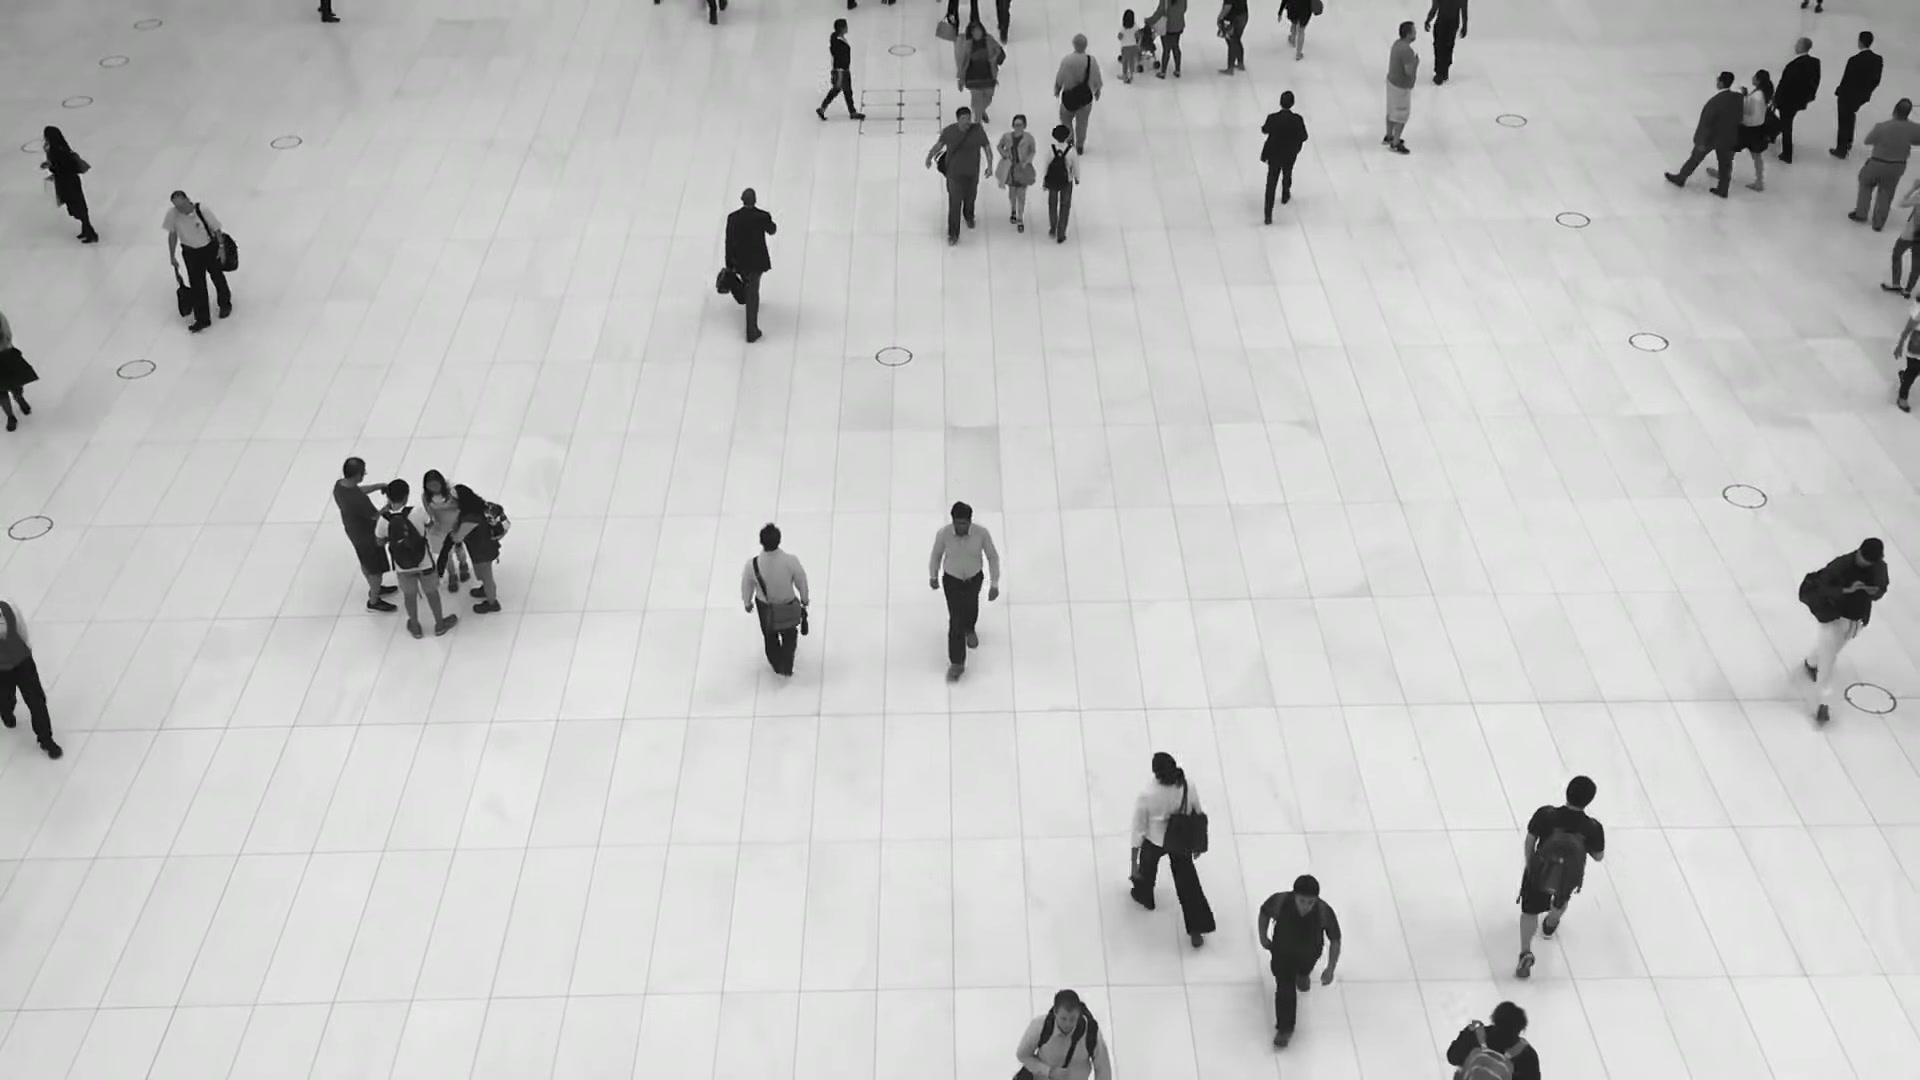person: (1515, 770, 1606, 959), (1796, 537, 1890, 719), (1120, 746, 1209, 933), (1256, 873, 1341, 1037), (926, 501, 1000, 683), (377, 477, 460, 635), (739, 522, 813, 690), (160, 192, 233, 334), (333, 457, 399, 610), (1847, 97, 1920, 232), (924, 106, 992, 245), (1670, 73, 1740, 201), (722, 184, 778, 338), (1014, 993, 1110, 1080), (1823, 31, 1883, 166), (40, 124, 99, 244), (449, 483, 501, 615), (1258, 86, 1310, 216), (1050, 35, 1101, 162), (1770, 34, 1820, 161), (420, 469, 469, 593), (1723, 67, 1771, 191), (1380, 20, 1420, 155), (1039, 126, 1080, 251), (996, 115, 1037, 236), (958, 20, 1001, 128), (823, 17, 862, 121), (1115, 9, 1140, 83)
